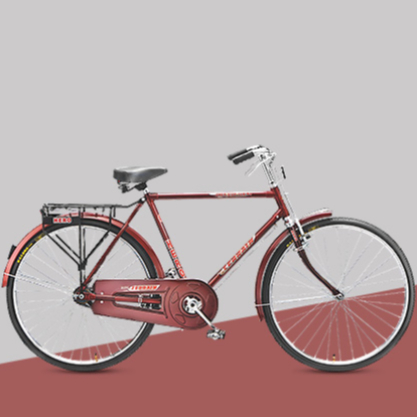bicycle: (1, 144, 416, 375)
